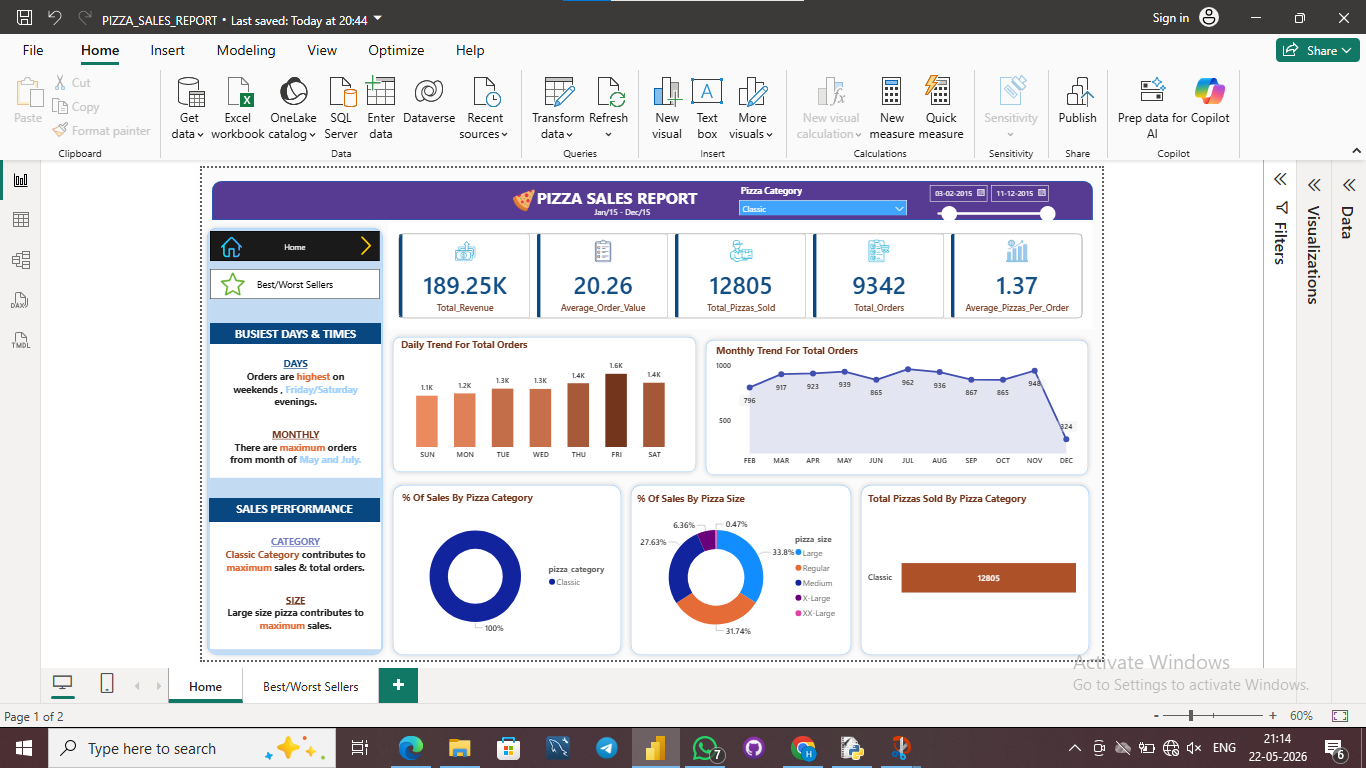

What the dashboard file says about the page in this screenshot:
{"tool":"powerbi","page":{"name":"Home","canvas":[1500,820],"ordinal":0},"visuals":[{"type":"shape","box":[0,91.7,310,728.3],"z":0},{"type":"cardVisual","fields":{"Data":["pizza_db pizza_sales.Total_Revenue","pizza_db pizza_sales.Average_Order_Value","pizza_db pizza_sales.Total_Pizzas_Sold","pizza_db pizza_sales.Total_Orders","pizza_db pizza_sales.Average_Pizzas_Per_Order"]},"box":[310,91.7,1175,176.7],"z":1000},{"type":"shape","box":[16.7,21.7,1468.3,65],"z":2000},{"type":"textbox","box":[551.7,26.7,280,56.7],"z":3000},{"type":"textbox","box":[641.7,60,128.3,45],"z":4000},{"type":"image","box":[508.3,35,56.7,38.3],"z":5000},{"type":"shape","box":[310,273.3,521.7,241.7],"z":6000},{"type":"columnChart","title":"Daily Trend For Total Orders","fields":{"Category":["pizza_db pizza_sales.Order_Day"],"Y":["pizza_db pizza_sales.Total_Orders"]},"box":[326.7,283.3,476.7,211.7],"z":7000},{"type":"shape","box":[831.7,278.3,653.3,241.7],"z":8000},{"type":"areaChart","title":"Monthly Trend For Total Orders","fields":{"Category":["pizza_db pizza_sales.Order_Month"],"Y":["pizza_db pizza_sales.Total_Orders"]},"box":[851.7,293.3,615,211.7],"z":9000},{"type":"shape","box":[706.7,520,383.3,300],"z":10000},{"type":"shape","box":[1090,520,396.7,300],"z":11000},{"type":"shape","box":[310,520,396.7,300],"z":12000},{"type":"donutChart","title":"% Of Sales By Pizza Category","fields":{"Category":["pizza_db pizza_sales.pizza_category"],"Y":["pizza_db pizza_sales.Total_Revenue"]},"box":[328.3,538.3,363.3,263.3],"z":13000},{"type":"donutChart","title":"% Of Sales By Pizza Size","fields":{"Y":["pizza_db pizza_sales.Total_Revenue"],"Category":["pizza_db pizza_sales.pizza_size"]},"box":[720,540,353.3,263.3],"z":14000},{"type":"funnel","title":"Total Pizzas Sold By Pizza Category","fields":{"Category":["pizza_db pizza_sales.pizza_category"],"Y":["pizza_db pizza_sales.Total_Pizzas_Sold"]},"box":[1105,540,361.7,263.3],"z":15000},{"type":"textbox","box":[13.3,258.3,285,40],"z":16000},{"type":"textbox","box":[13.3,293.3,285,223],"z":17000},{"type":"textbox","box":[13.3,590,285,211.7],"z":18000},{"type":"textbox","box":[11.7,550,285,40],"z":19000},{"type":"slicer","title":"Pizza Category","fields":{"Values":["pizza_db pizza_sales.pizza_category"]},"box":[885,21.7,300,56.7],"z":20000},{"type":"slicer","title":"Pizza Category","fields":{"Values":["pizza_db pizza_sales.order_date"]},"box":[1200,18.3,241.7,83.3],"z":21000},{"type":"pageNavigator","box":[13.3,105,283.3,50],"z":22000},{"type":"pageNavigator","box":[13.3,168.3,283.3,50],"z":23000},{"type":"image","box":[250,113.3,46.7,31.7],"z":24000},{"type":"image","box":[31.7,108.3,35,46.7],"z":25000},{"type":"image","box":[13.3,173.3,75,40],"z":26000}]}

Visuals, with their boxes on the page's 1500x820 design canvas (x1, y1, x2, y2). These are canvas units, not pixel positions in the 1366x768 screenshot, which may show the page scaled, cropped or inside an application window:
shape: {"left": 0, "top": 92, "right": 310, "bottom": 820}
cardVisual - pizza_db pizza_sales.Total_Revenue x pizza_db pizza_sales.Average_Order_Value: {"left": 310, "top": 92, "right": 1485, "bottom": 268}
shape: {"left": 17, "top": 22, "right": 1485, "bottom": 87}
textbox: {"left": 552, "top": 27, "right": 832, "bottom": 83}
textbox: {"left": 642, "top": 60, "right": 770, "bottom": 105}
image: {"left": 508, "top": 35, "right": 565, "bottom": 73}
shape: {"left": 310, "top": 273, "right": 832, "bottom": 515}
"Daily Trend For Total Orders" columnChart: {"left": 327, "top": 283, "right": 803, "bottom": 495}
shape: {"left": 832, "top": 278, "right": 1485, "bottom": 520}
"Monthly Trend For Total Orders" areaChart: {"left": 852, "top": 293, "right": 1467, "bottom": 505}
shape: {"left": 707, "top": 520, "right": 1090, "bottom": 820}
shape: {"left": 1090, "top": 520, "right": 1487, "bottom": 820}
shape: {"left": 310, "top": 520, "right": 707, "bottom": 820}
"% Of Sales By Pizza Category" donutChart: {"left": 328, "top": 538, "right": 692, "bottom": 802}
"% Of Sales By Pizza Size" donutChart: {"left": 720, "top": 540, "right": 1073, "bottom": 803}
"Total Pizzas Sold By Pizza Category" funnel: {"left": 1105, "top": 540, "right": 1467, "bottom": 803}
textbox: {"left": 13, "top": 258, "right": 298, "bottom": 298}
textbox: {"left": 13, "top": 293, "right": 298, "bottom": 516}
textbox: {"left": 13, "top": 590, "right": 298, "bottom": 802}
textbox: {"left": 12, "top": 550, "right": 297, "bottom": 590}
"Pizza Category" slicer: {"left": 885, "top": 22, "right": 1185, "bottom": 78}
"Pizza Category" slicer: {"left": 1200, "top": 18, "right": 1442, "bottom": 102}
pageNavigator: {"left": 13, "top": 105, "right": 297, "bottom": 155}
pageNavigator: {"left": 13, "top": 168, "right": 297, "bottom": 218}
image: {"left": 250, "top": 113, "right": 297, "bottom": 145}
image: {"left": 32, "top": 108, "right": 67, "bottom": 155}
image: {"left": 13, "top": 173, "right": 88, "bottom": 213}
